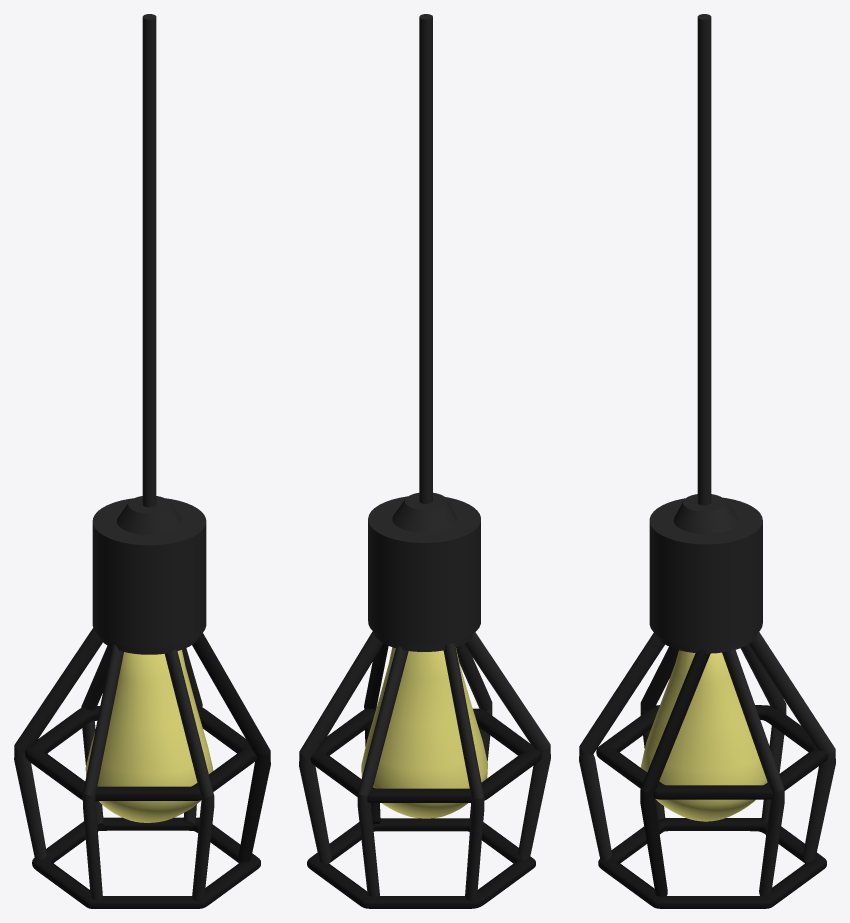
The model's file is Lampada.fbx.
3 renders of one model, left to right at view 1: azimuth 30°, elevation 25°; view 2: azimuth 150°, elevation 25°; view 3: azimuth 270°, elevation 25°, orthographic.
Parts seen in each view (by area): view 1: Cylinder, Cylinder.010, Cylinder.008, Cylinder.009, Cylinder.002, Cylinder.001, Cylinder.004, Cylinder.007, Cylinder.003, Cylinder.006; view 2: Cylinder, Cylinder.010, Cylinder.008, Cylinder.009, Cylinder.006, Cylinder.007, Cylinder.002, Cylinder.003, Cylinder.004, Cylinder.001; view 3: Cylinder, Cylinder.010, Cylinder.008, Cylinder.009, Cylinder.004, Cylinder.003, Cylinder.001, Cylinder.006, Cylinder.002, Cylinder.007.
Part boxes in pixels (left/top/right/bottom): Cylinder: left=92, top=14, right=206, bottom=654; Cylinder.010: left=85, top=650, right=213, bottom=822; Cylinder.008: left=32, top=817, right=260, bottom=908; Cylinder.009: left=25, top=706, right=256, bottom=801; Cylinder.002: left=14, top=628, right=102, bottom=859; Cylinder.001: left=192, top=633, right=270, bottom=862; Cylinder.004: left=165, top=649, right=214, bottom=901; Cylinder.007: left=82, top=644, right=123, bottom=899; Cylinder.003: left=81, top=645, right=111, bottom=826; Cylinder.006: left=182, top=648, right=202, bottom=824; Cylinder: left=368, top=14, right=480, bottom=651; Cylinder.010: left=361, top=647, right=487, bottom=818; Cylinder.008: left=307, top=818, right=535, bottom=908; Cylinder.009: left=310, top=708, right=541, bottom=802; Cylinder.006: left=299, top=631, right=383, bottom=863; Cylinder.007: left=464, top=632, right=550, bottom=860; Cylinder.002: left=443, top=643, right=484, bottom=901; Cylinder.003: left=357, top=646, right=408, bottom=896; Cylinder.004: left=456, top=644, right=492, bottom=819; Cylinder.001: left=364, top=643, right=388, bottom=824; Cylinder: left=649, top=14, right=762, bottom=653; Cylinder.010: left=640, top=650, right=767, bottom=821; Cylinder.008: left=598, top=818, right=826, bottom=908; Cylinder.009: left=596, top=705, right=827, bottom=799; Cylinder.004: left=579, top=633, right=664, bottom=860; Cylinder.003: left=748, top=632, right=835, bottom=862; Cylinder.001: left=640, top=649, right=710, bottom=896; Cylinder.006: left=722, top=649, right=784, bottom=895; Cylinder.002: left=740, top=644, right=786, bottom=822; Cylinder.007: left=640, top=646, right=678, bottom=822.
Size of the model in its own units: 213 by 928 by 254.
